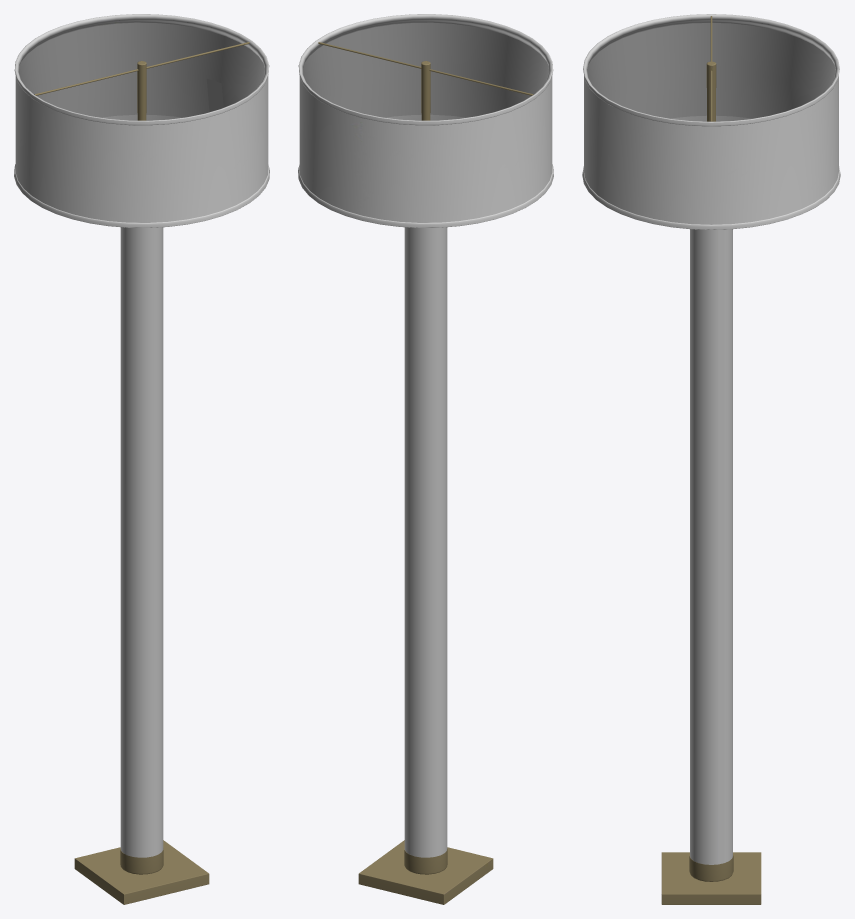
File: B07374SBFN.glb
3 views of the same model, side by side, from view 1: azimuth 30°, elevation 25°; view 2: azimuth 150°, elevation 25°; view 3: azimuth 270°, elevation 25° (orthographic).
Parts seen in each view (by area): view 1: "$AHHJBIAABPBAAAAAICBAAAAAAAAAHLDCICEP"; view 2: "$AHHJBIAABPBAAAAAICBAAAAAAAAAHLDCICEP"; view 3: "$AHHJBIAABPBAAAAAICBAAAAAAAAAHLDCICEP".
Part boxes in pixels (x1=…): "$AHHJBIAABPBAAAAAICBAAAAAAAAAHLDCICEP": x1=14, y1=14, x2=269, y2=904; "$AHHJBIAABPBAAAAAICBAAAAAAAAAHLDCICEP": x1=298, y1=14, x2=553, y2=904; "$AHHJBIAABPBAAAAAICBAAAAAAAAAHLDCICEP": x1=582, y1=14, x2=840, y2=904.
Bounding box in the file's own units: 0.4198 × 1.48 × 0.4198.
1 material, 1 textured.
